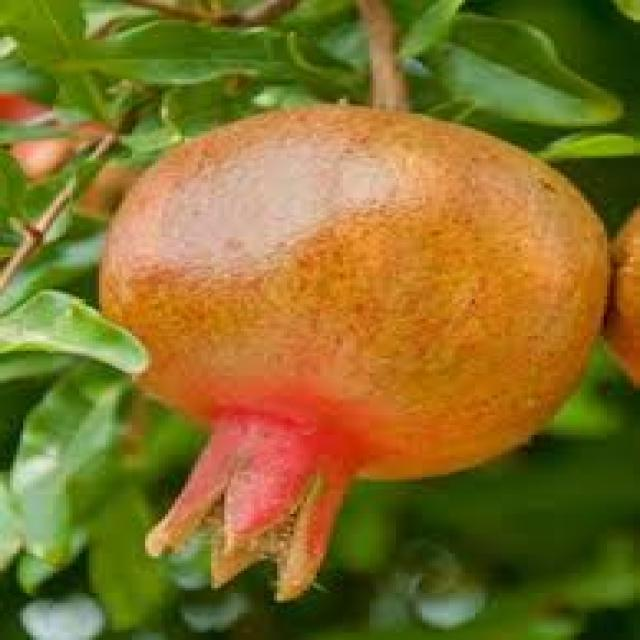Pomegranate: (97, 102, 610, 600)
